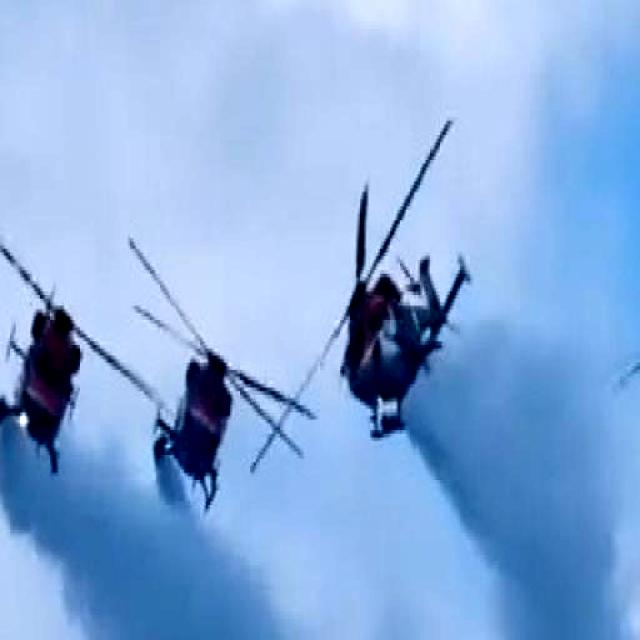drone: (299, 132, 490, 426), (115, 231, 295, 510), (0, 209, 139, 486)
